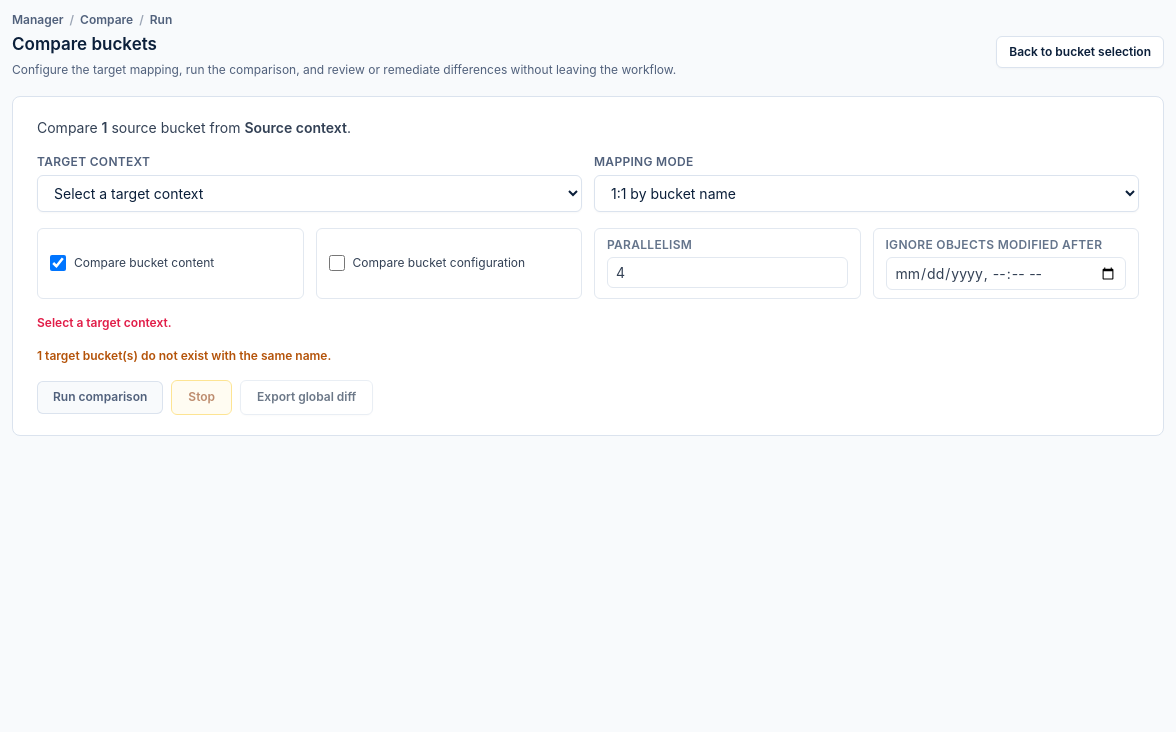
ManagerBucketCompareModal remediation actions › labels completed results without differences as identical
Expected: the dropdown labelled "Mapping mode" is shown, [594,174,1139,212]
Select "Target context" in the dropdown labelled "Target context" at (310, 193), box [37,174,582,212]
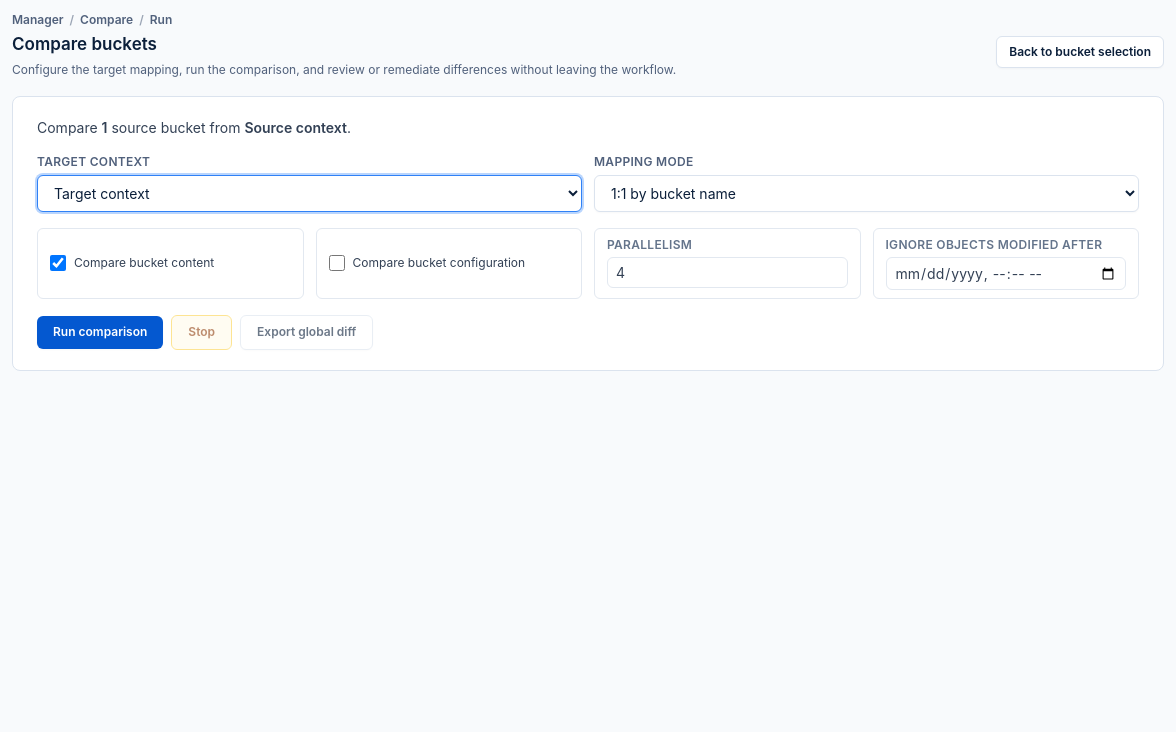
Now the button "Run comparison" is enabled
Click the button "Run comparison" at (100, 332), box [37,316,163,348]
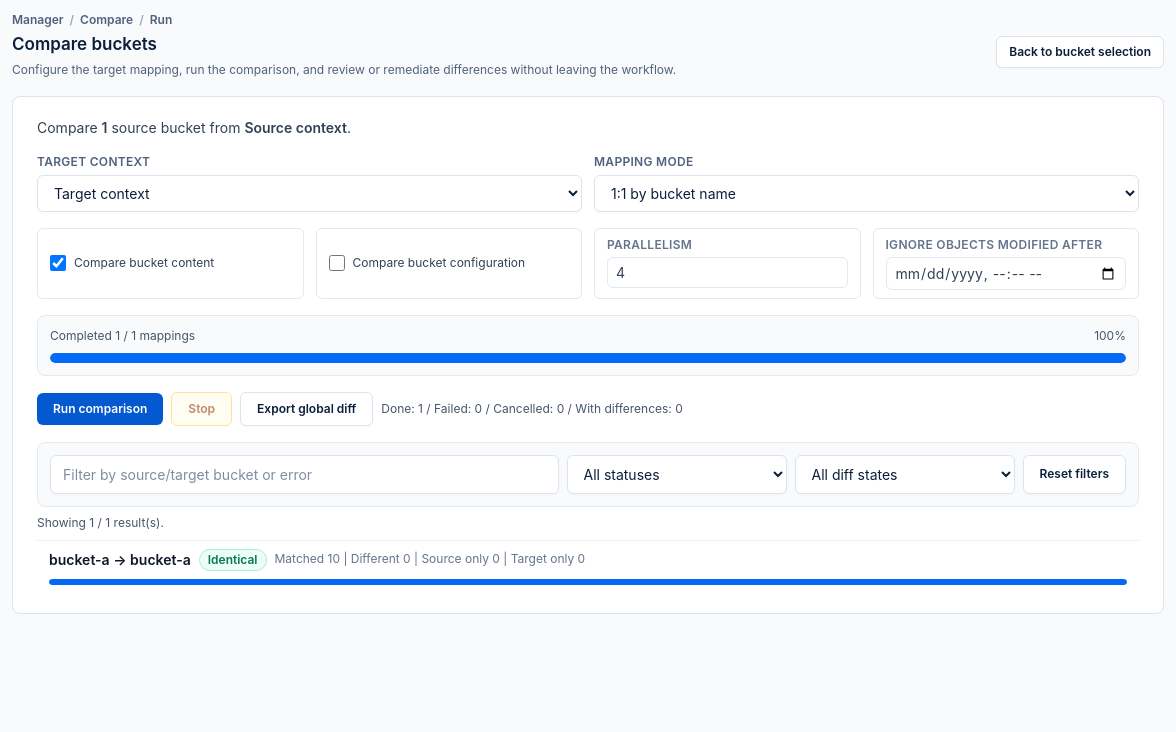
Now the text "Identical" is shown, box [199,548,266,570]
